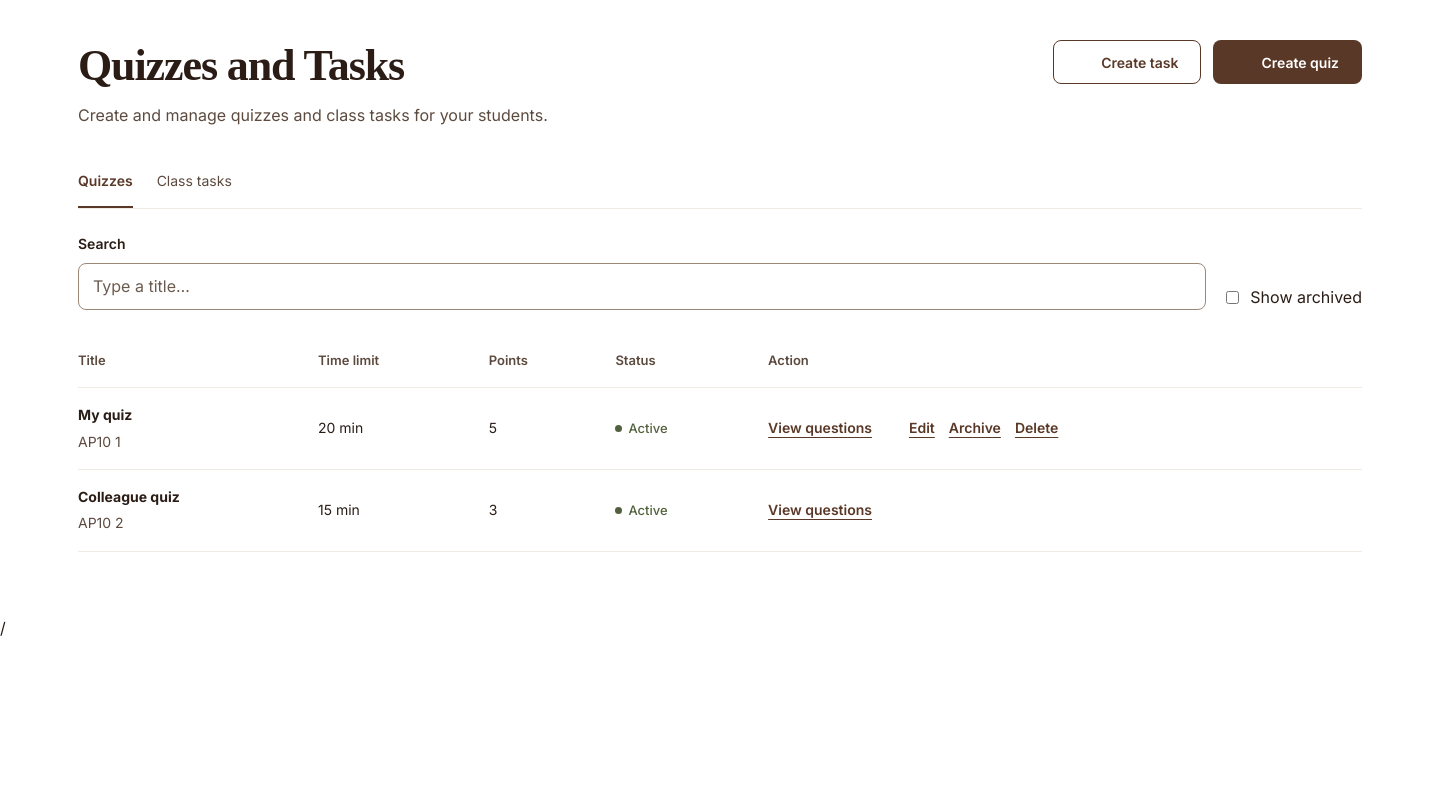
Test: AssessmentsPage › offers only archiving when a task has graded work
Expected: the text "My quiz" is shown, [78,406,132,423]
Click the button "Class tasks". click: coordinates (194, 184)
box: [157,160,232,208]
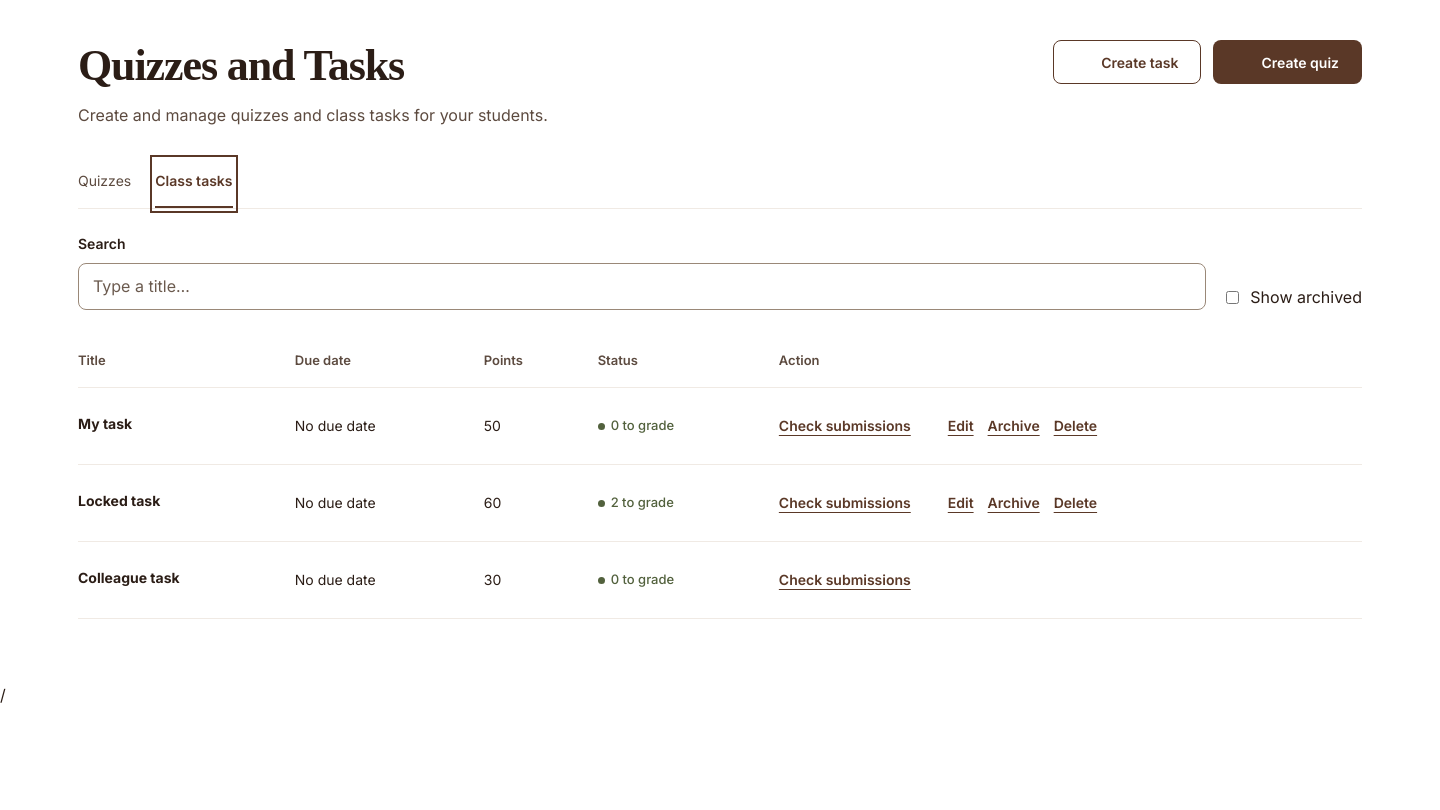
Click the button "Delete" in the row of "My task". click: coordinates (1075, 426)
box: [1054,404,1097,448]
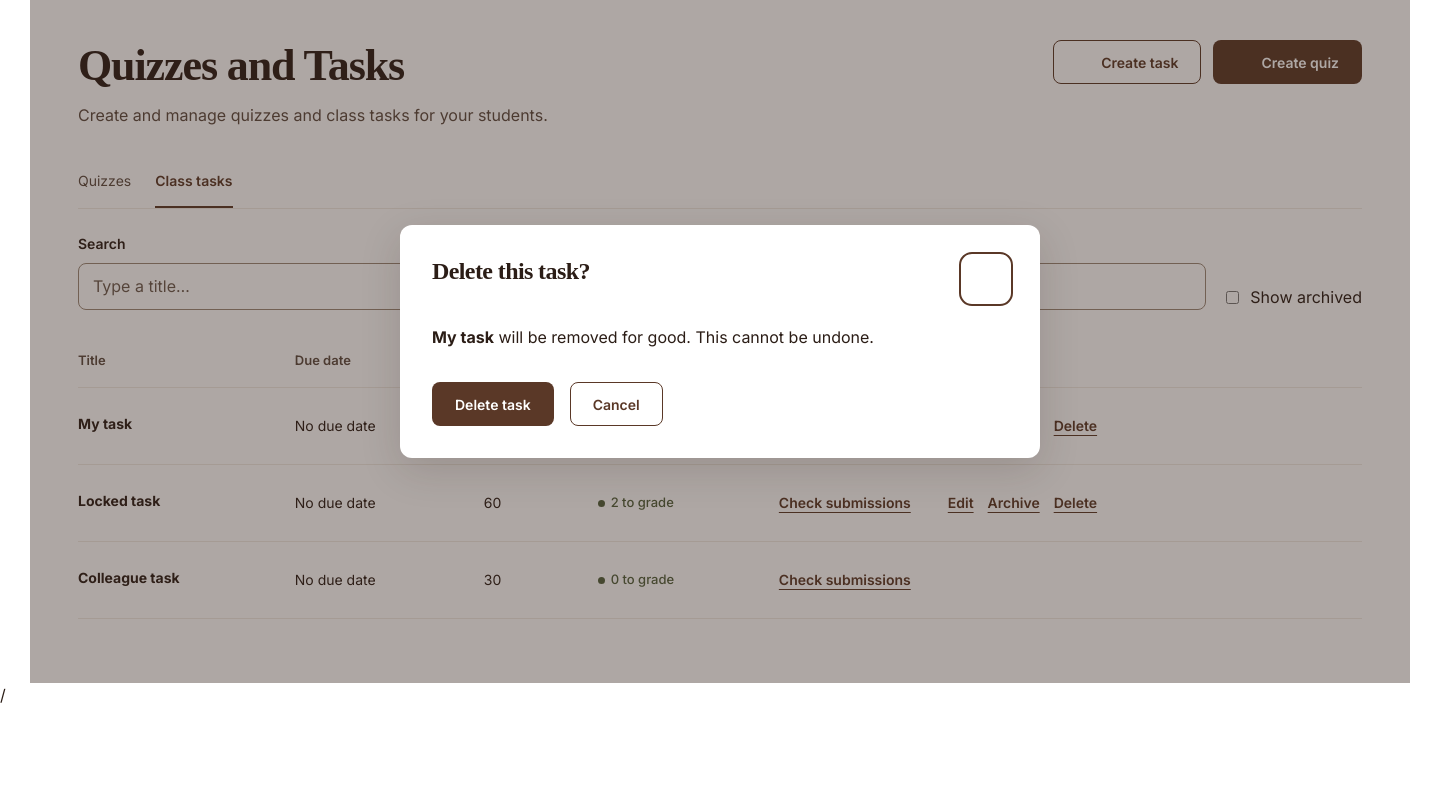
Click the button "Delete task". click: coordinates (493, 404)
box: [432,382,554,426]
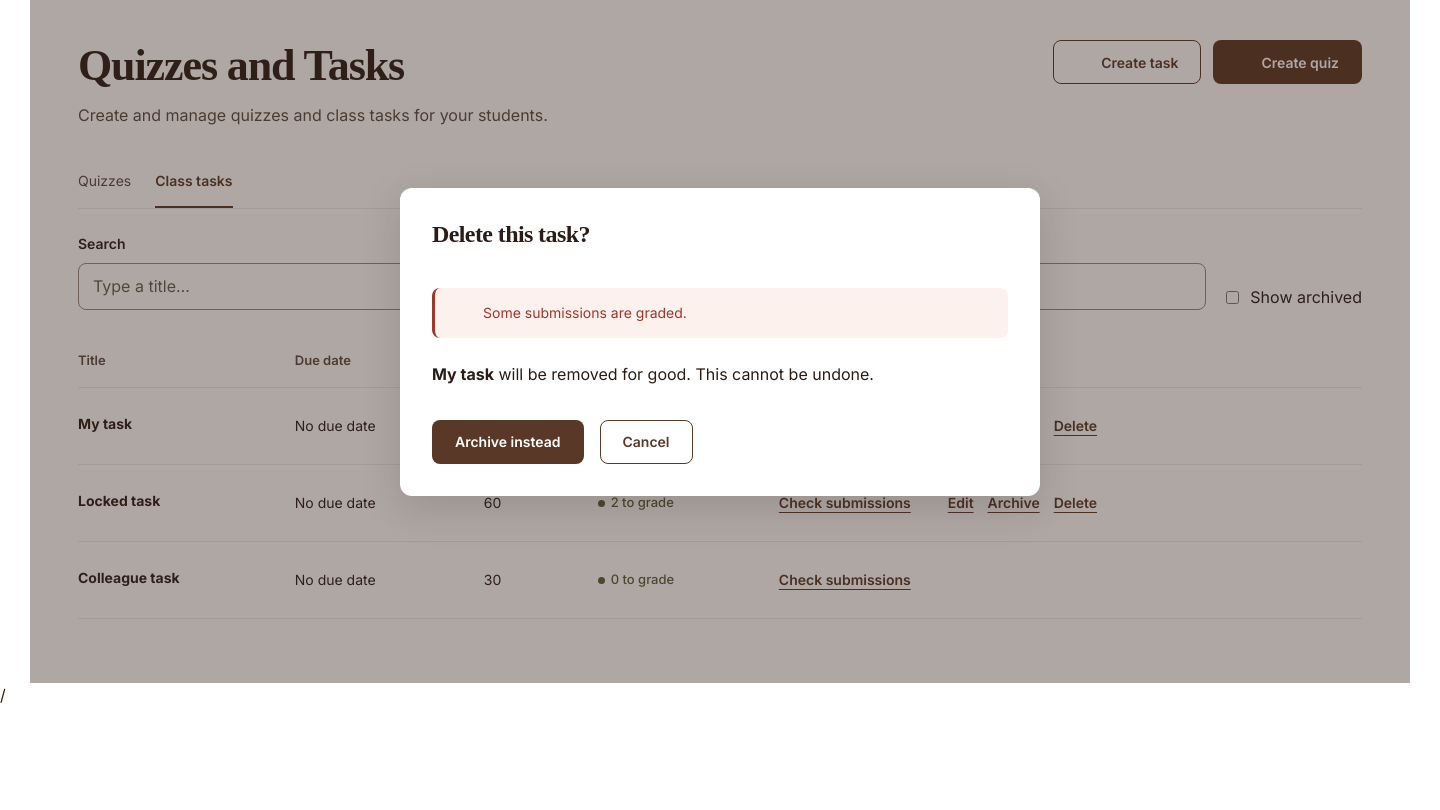
Expected: the button "Archive instead" is shown, [432,420,584,464]
